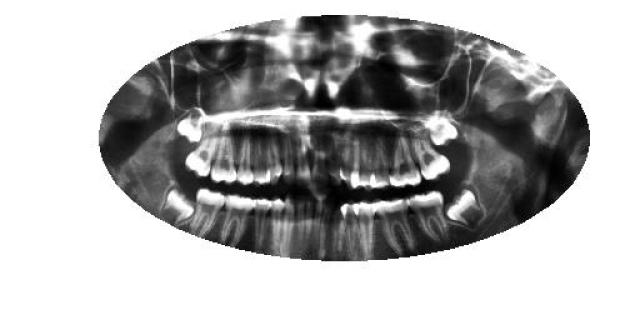Restorations: (442, 182, 488, 230), (162, 185, 198, 229), (426, 114, 460, 148), (176, 110, 205, 145)
